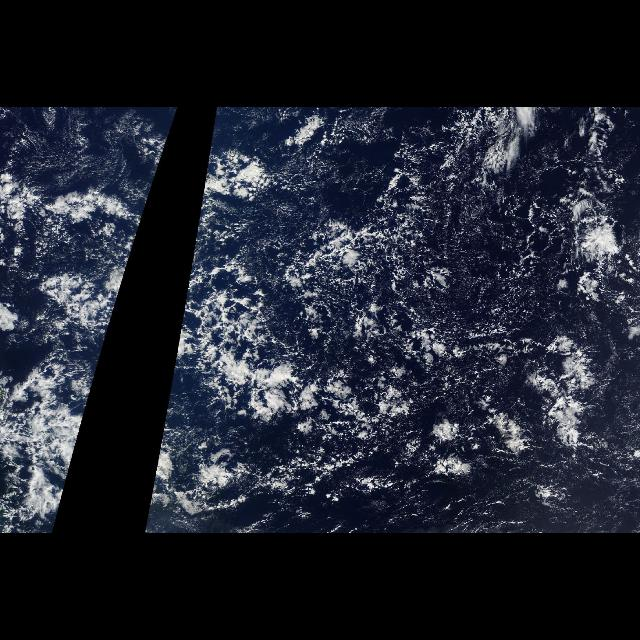Gravel: (164, 132, 586, 450)
